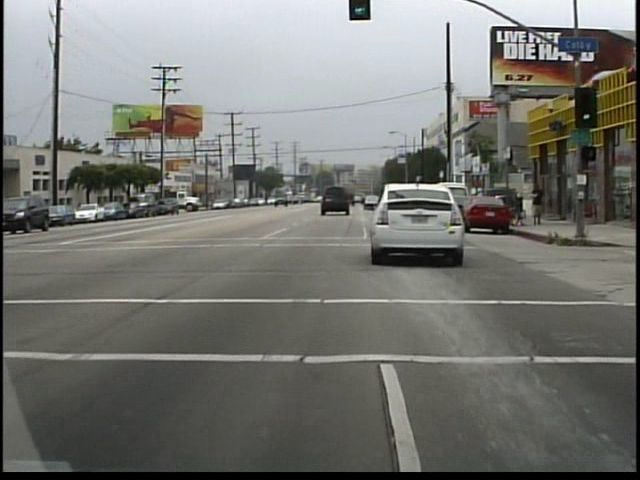person: (527, 178, 549, 231)
